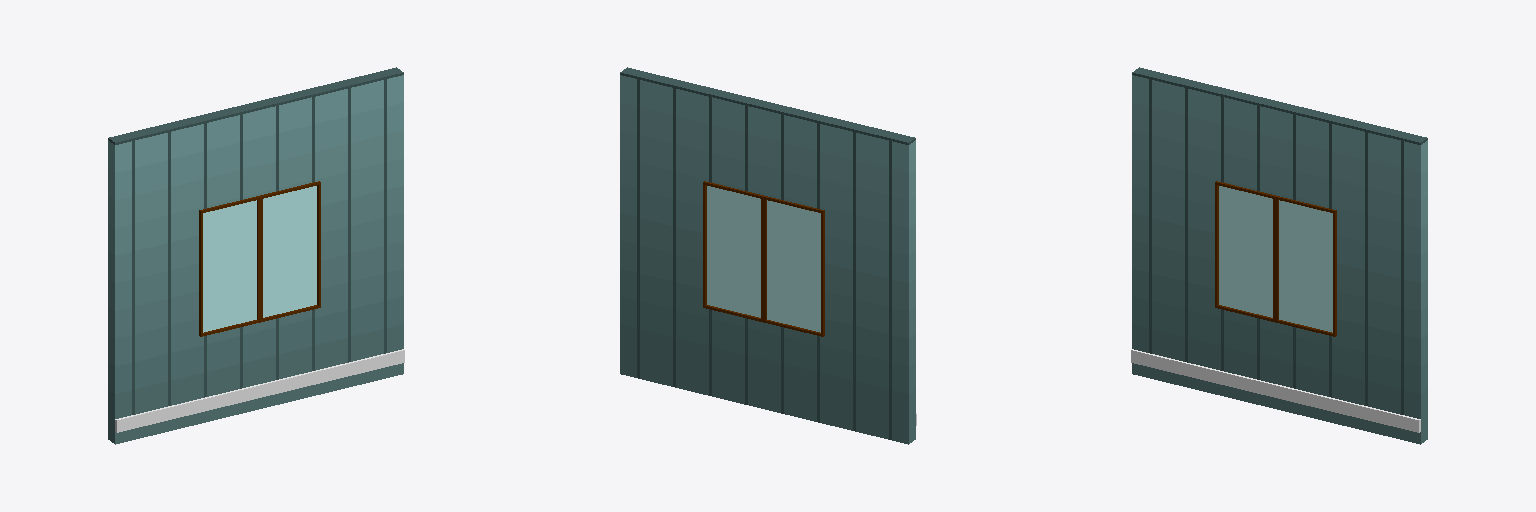
The picture shows the model from 3 angles: view 1: azimuth 30°, elevation 25°; view 2: azimuth 150°, elevation 25°; view 3: azimuth 330°, elevation 25°; orthographic projection.
Parts seen in each view (by area): view 1: object 1; view 2: object 1; view 3: object 1.
Boxes of the visible parts, <box> form: object 1: <box>108,67,404,444</box>; object 1: <box>620,67,916,444</box>; object 1: <box>1131,67,1427,444</box>.
Bounding box in the file's own units: 12 × 12 × 0.7.
Materials: 1 (1 with a texture image).